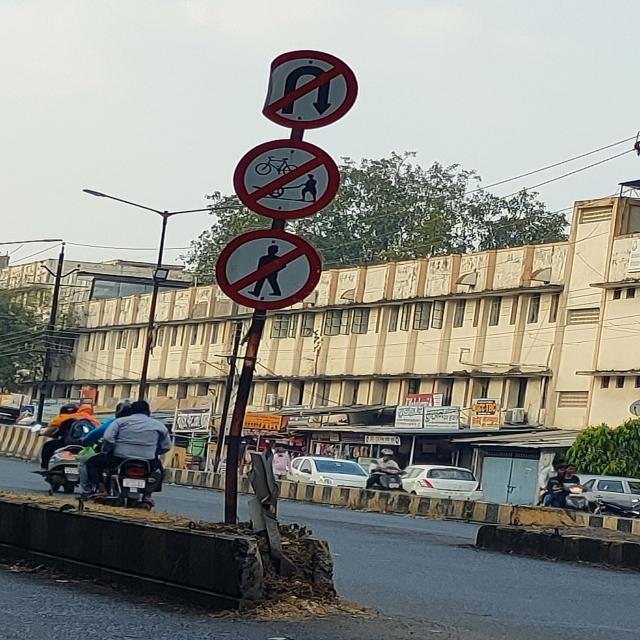CYCLE_PROHIBITED: (233, 140, 341, 218)
